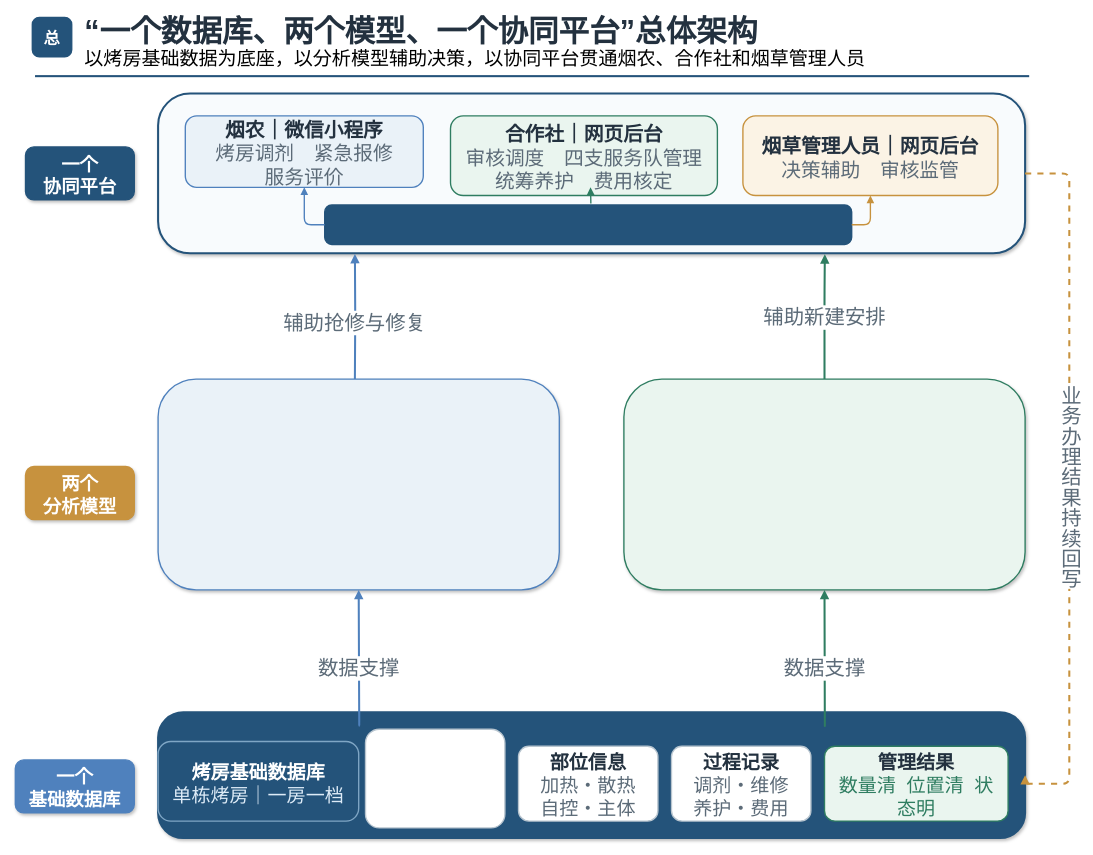
Some shapes in this 1093 by 855 pixel diagram are drawn without their labels. The shapes that lost their labels are listed below. From the top down, each one's centre as x and y in pixels, then its label:
(x=588, y=224): 管家协同平台
(x=359, y=485): 烤房健康评估模型 输入： 建设年份、部件状态、修复时间、检查评价 输出： 健康评分、风险部位排序 用途： 为抢修排查和修复决策提供参考
(x=825, y=485): 千亩村发展导引模型 输入： 烤房健康状况、烘烤承载能力、村级发展条件 输出： 村级发展指数 用途： 为新建烤房安排提供依据
(x=434, y=778): 基础信息 位置・建设年份 使用状态
